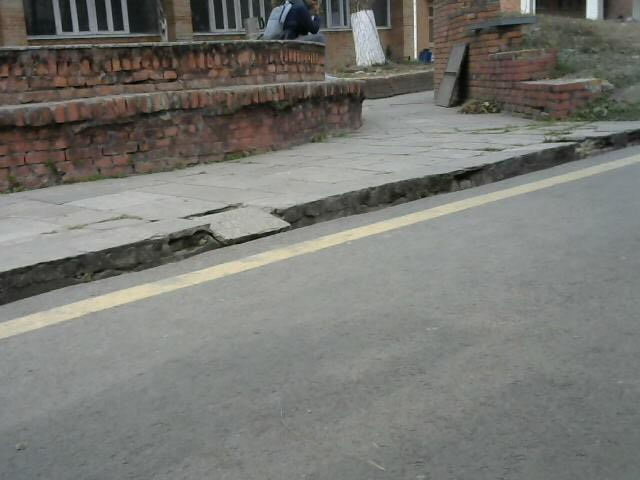Road: (5, 211, 640, 480)
